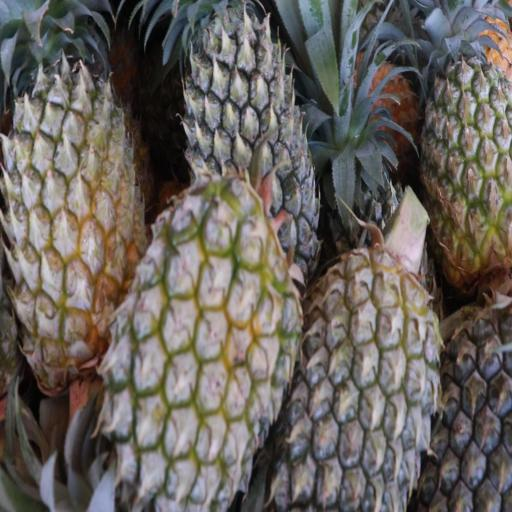------------------------------: (114, 183, 296, 507), (3, 0, 139, 360), (424, 23, 512, 271)
